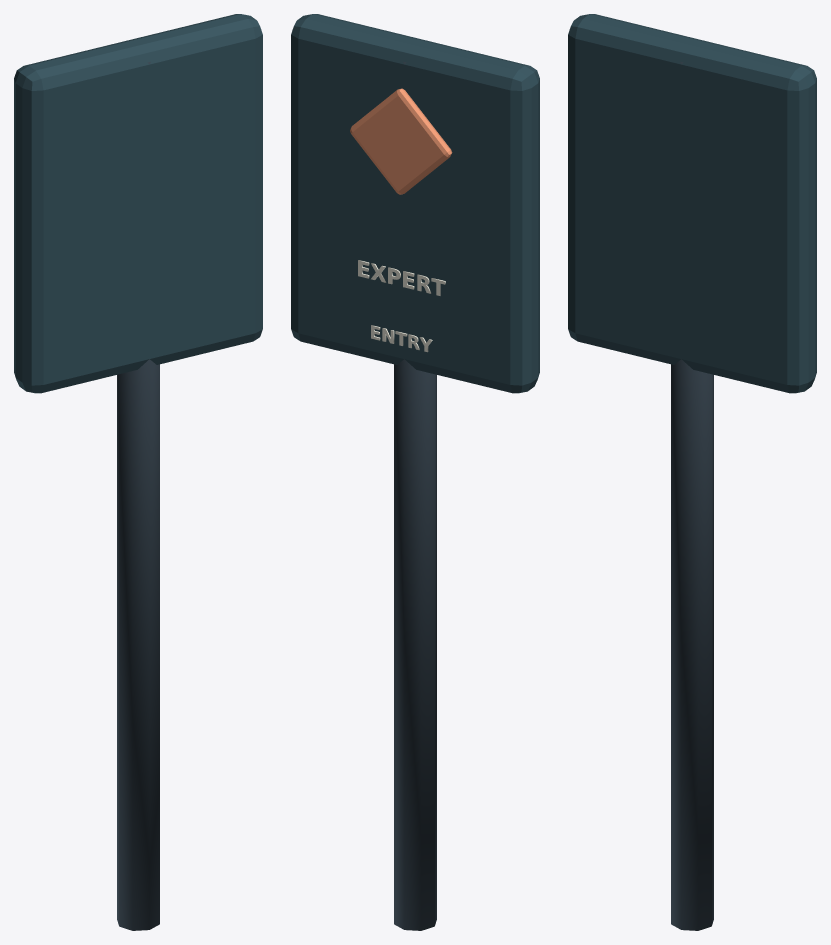
File: FeatureExpert.fbx
3 renders of one model, left to right at view 1: azimuth 30°, elevation 25°; view 2: azimuth 150°, elevation 25°; view 3: azimuth 330°, elevation 25°, orthographic.
Visible parts, largest first — view 1: Visual_FeatureExpert; view 2: Visual_FeatureExpert; view 3: Visual_FeatureExpert.
Part boxes in pixels (box(x1,y1,x2,y2)): Visual_FeatureExpert: box(14, 14, 262, 930); Visual_FeatureExpert: box(291, 14, 539, 930); Visual_FeatureExpert: box(568, 14, 816, 930).
Bounding box in the file's own units: 0.62 × 2.18 × 0.127.
